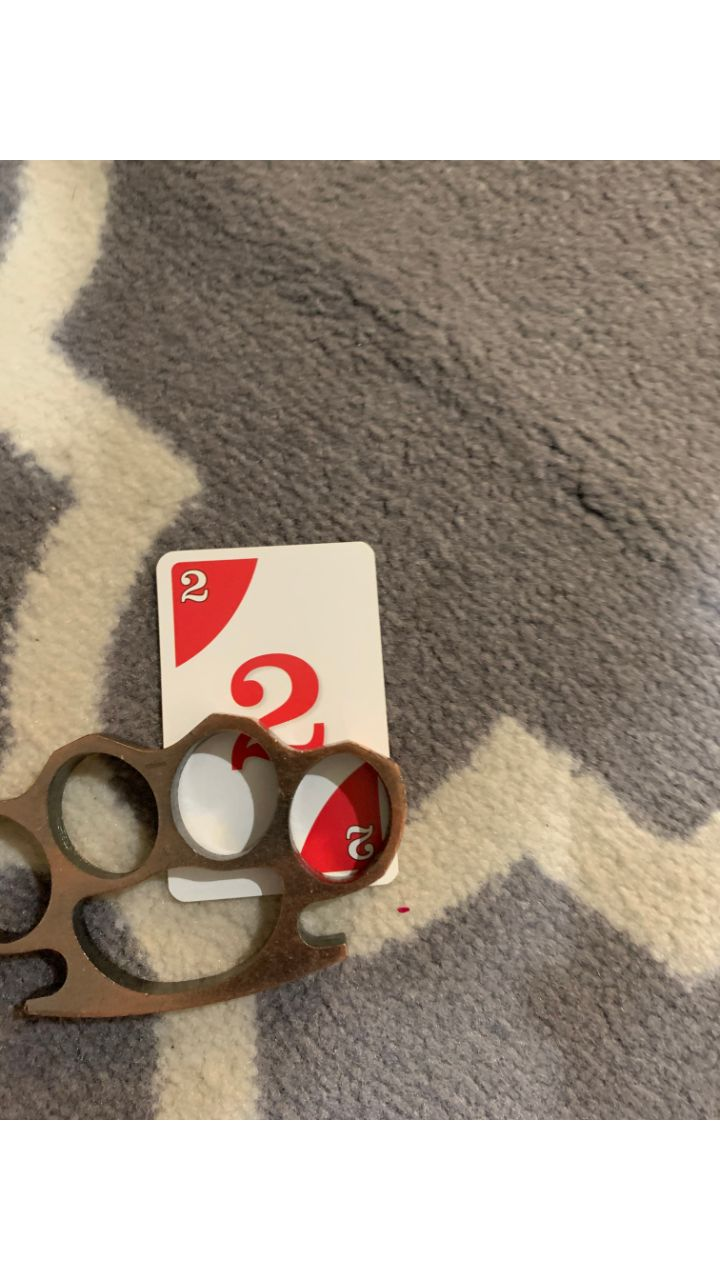two: (152, 536, 404, 901)
